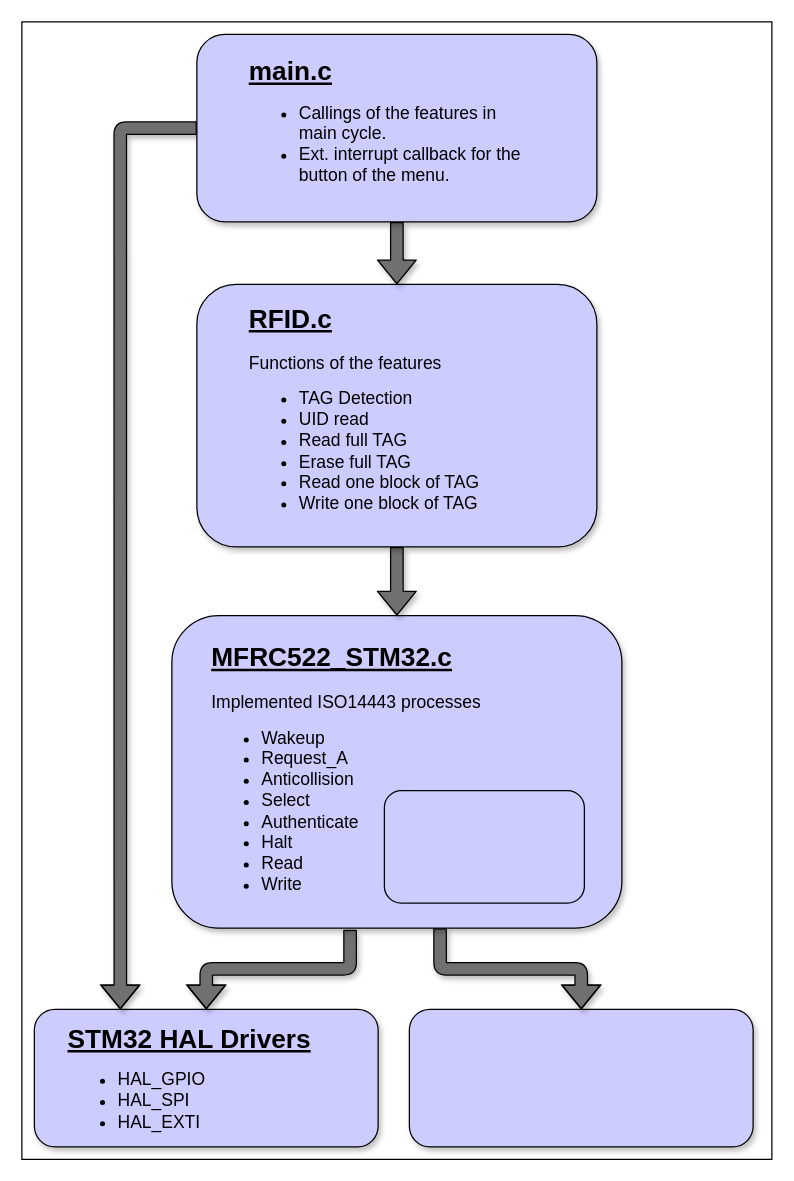
Image size: 794x1181. Some labels were removed from this diagram. Each missing label, with the centre of its shape:
"calculation_crc.c checksum calculator CRC_A, CRC_B" goes at point 582,1079.
"Elementary functions Read Register Write Register" goes at point 483,846.
